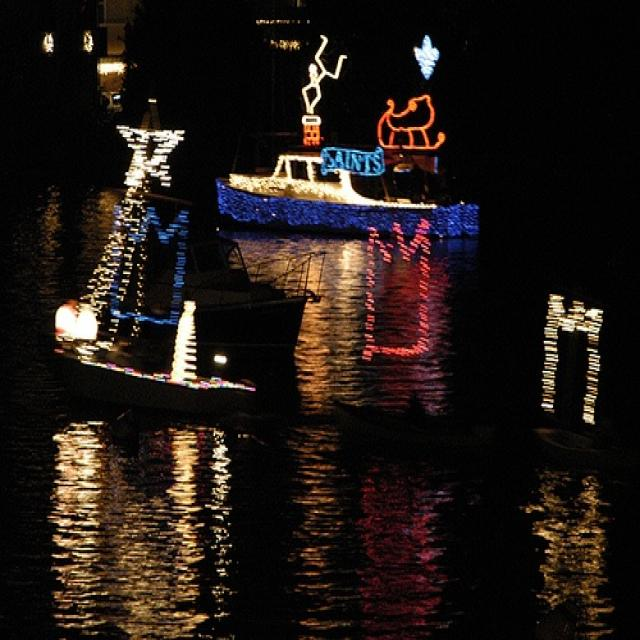boat: (52, 124, 324, 384), (218, 147, 480, 237)
